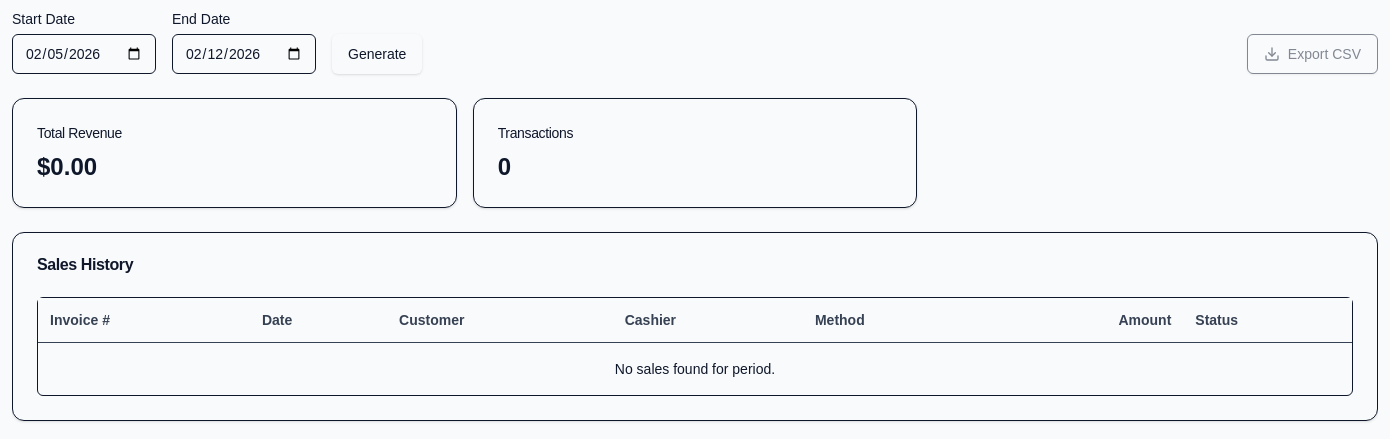
SalesSummaryPage › fetches and displays sales data
This screenshot has width=1390, height=439.
Click the button "Generate" at coordinates (377, 54), box [332,34,422,74]
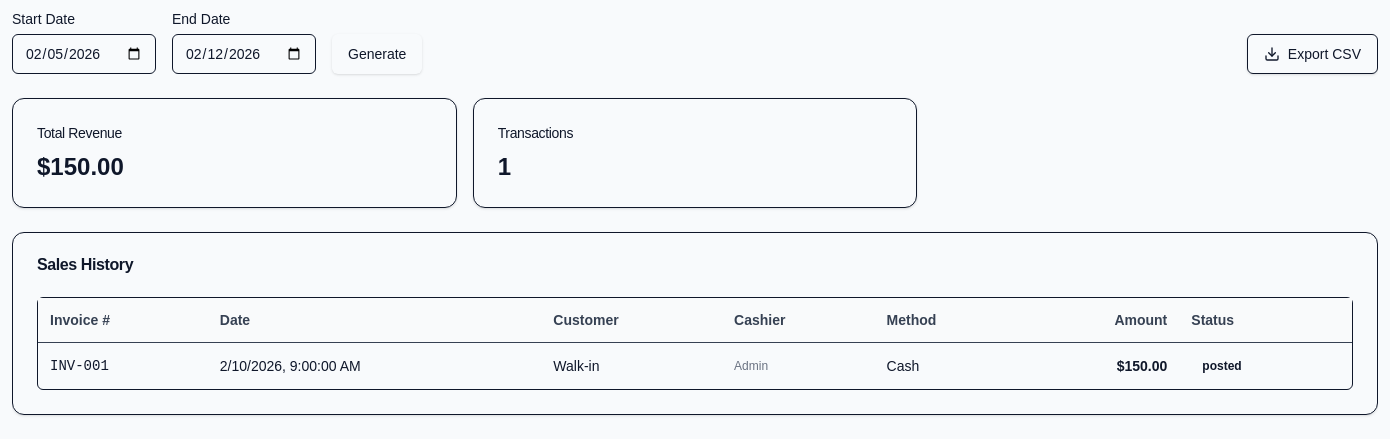
Check: the text "INV-001" is shown, box [38,342,208,389]
